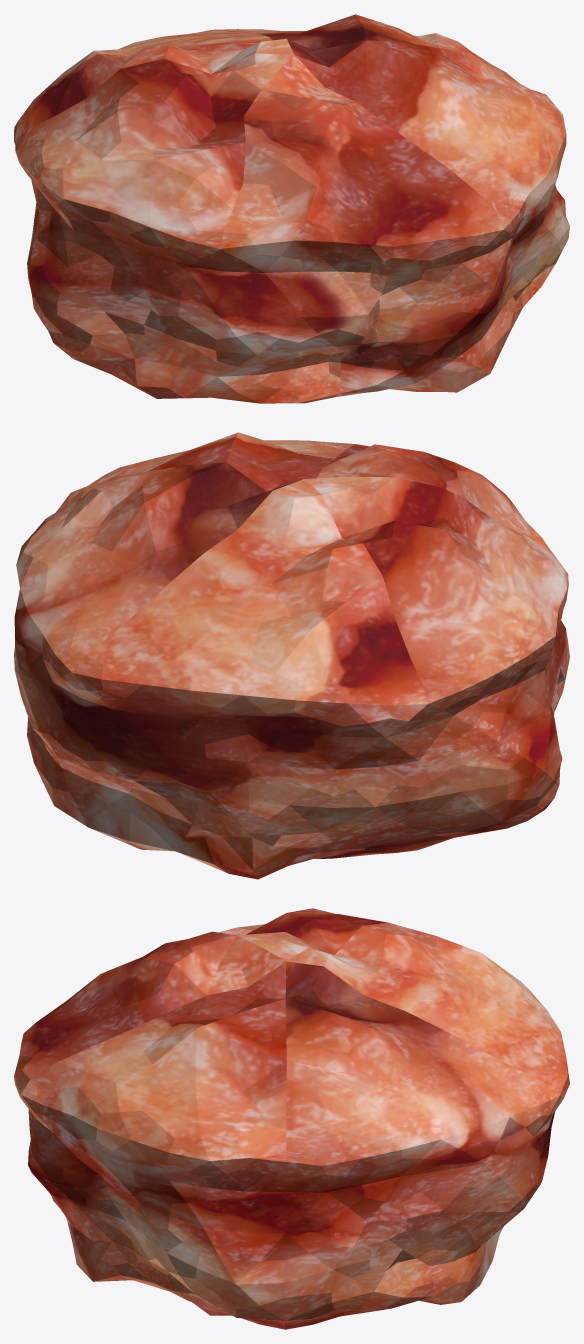
Rendered from Ground_Beef.fbx.
3 views of the same model, one above another, from view 1: azimuth 30°, elevation 25°; view 2: azimuth 150°, elevation 25°; view 3: azimuth 270°, elevation 25° (orthographic). The views are drawn at different scales.
Parts seen in each view (by area): view 1: Icosphere.011; view 2: Icosphere.011; view 3: Icosphere.011.
Part boxes in pixels (x1,y1,x2,y2): Icosphere.011: [14, 14, 569, 403]; Icosphere.011: [14, 432, 569, 879]; Icosphere.011: [14, 908, 569, 1329].
Bounding box in the file's own units: 273 × 155 × 269.
